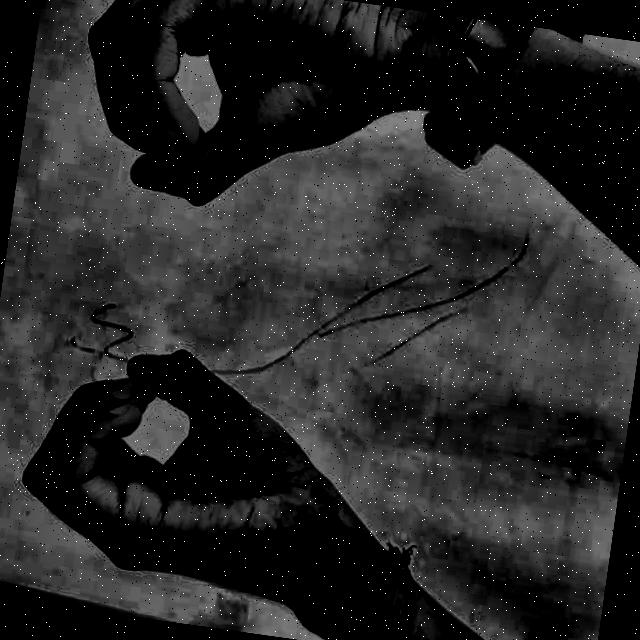Bisharga: (0, 0, 507, 640)
